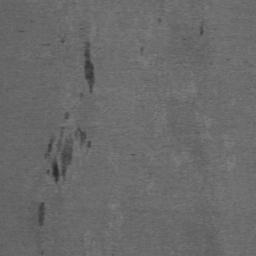Iron scale compression: (44, 112, 91, 186), (84, 42, 95, 93), (37, 203, 45, 228)
